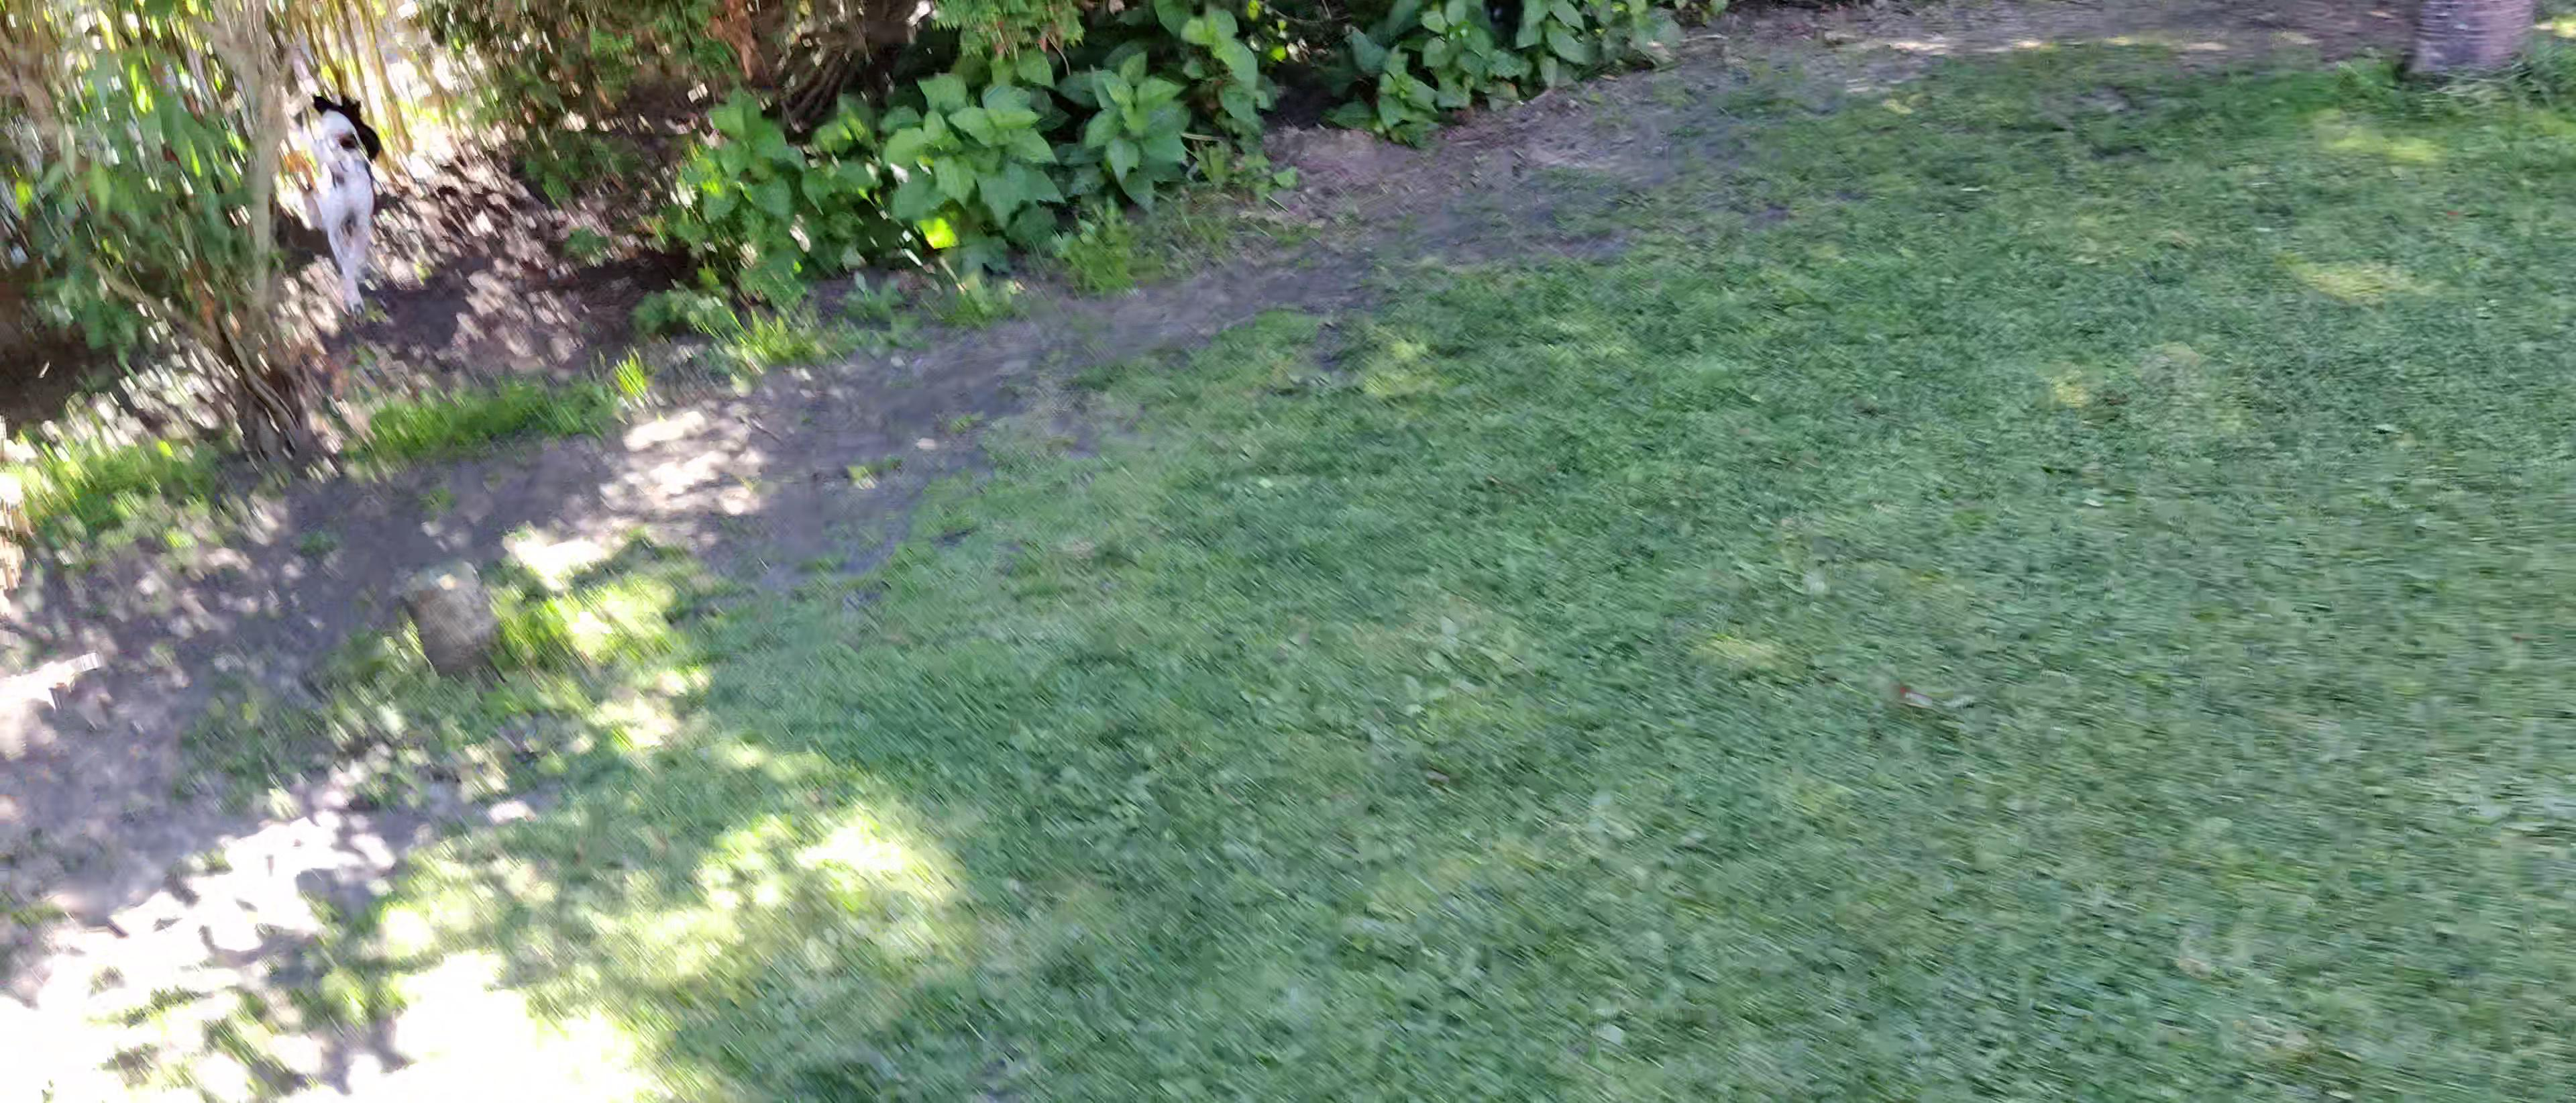Dog: (302, 87, 388, 322)
